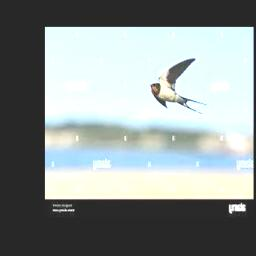Swallow: (151, 57, 206, 113)
